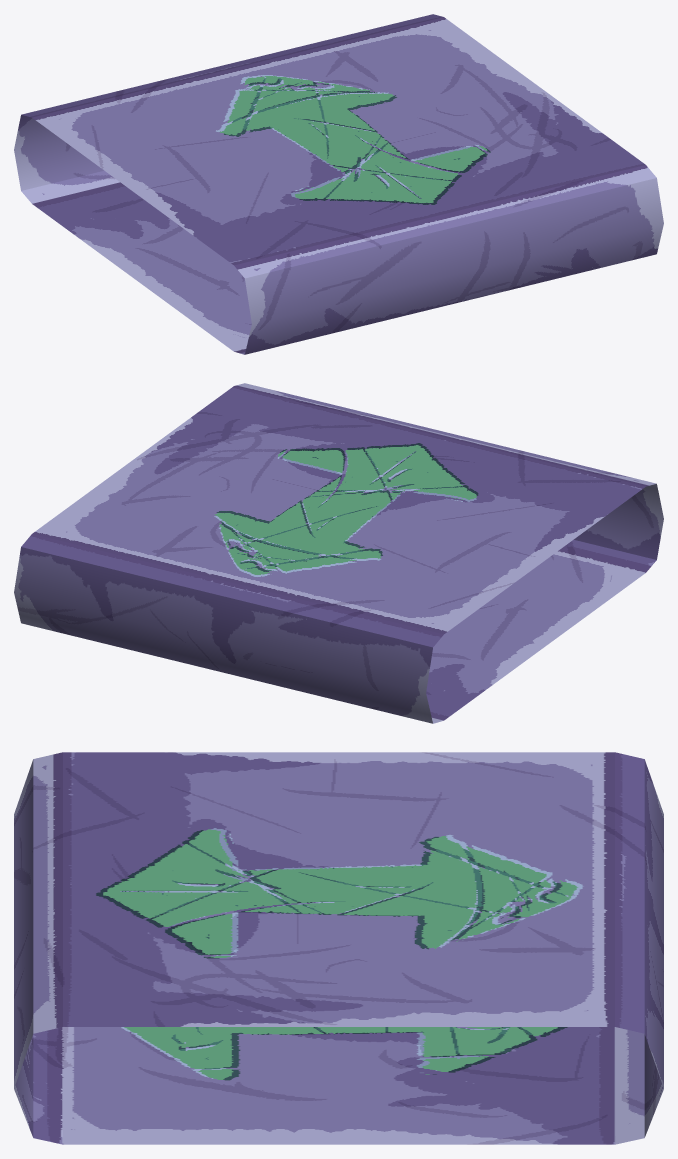
Rendered from conveyor belt actual belt model.fbx.
3 views of the same model, one above another, from view 1: azimuth 30°, elevation 25°; view 2: azimuth 150°, elevation 25°; view 3: azimuth 270°, elevation 25° (orthographic). The views are drawn at different scales.
Visible parts, largest first — view 1: Object001; view 2: Object001; view 3: Object001.
Boxes of the visible parts, x1=… form: Object001: x1=14, y1=14, x2=663, y2=354; Object001: x1=14, y1=383, x2=663, y2=723; Object001: x1=14, y1=752, x2=663, y2=1144.
Size of the model in its own units: 39.37 by 7.87 by 39.37.
1 material, 1 textured.
